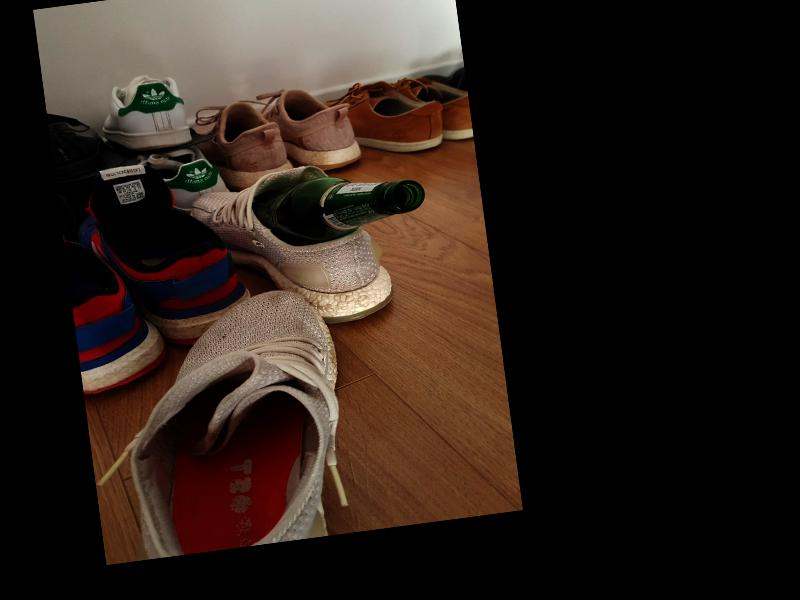Beer: (250, 166, 429, 250)
